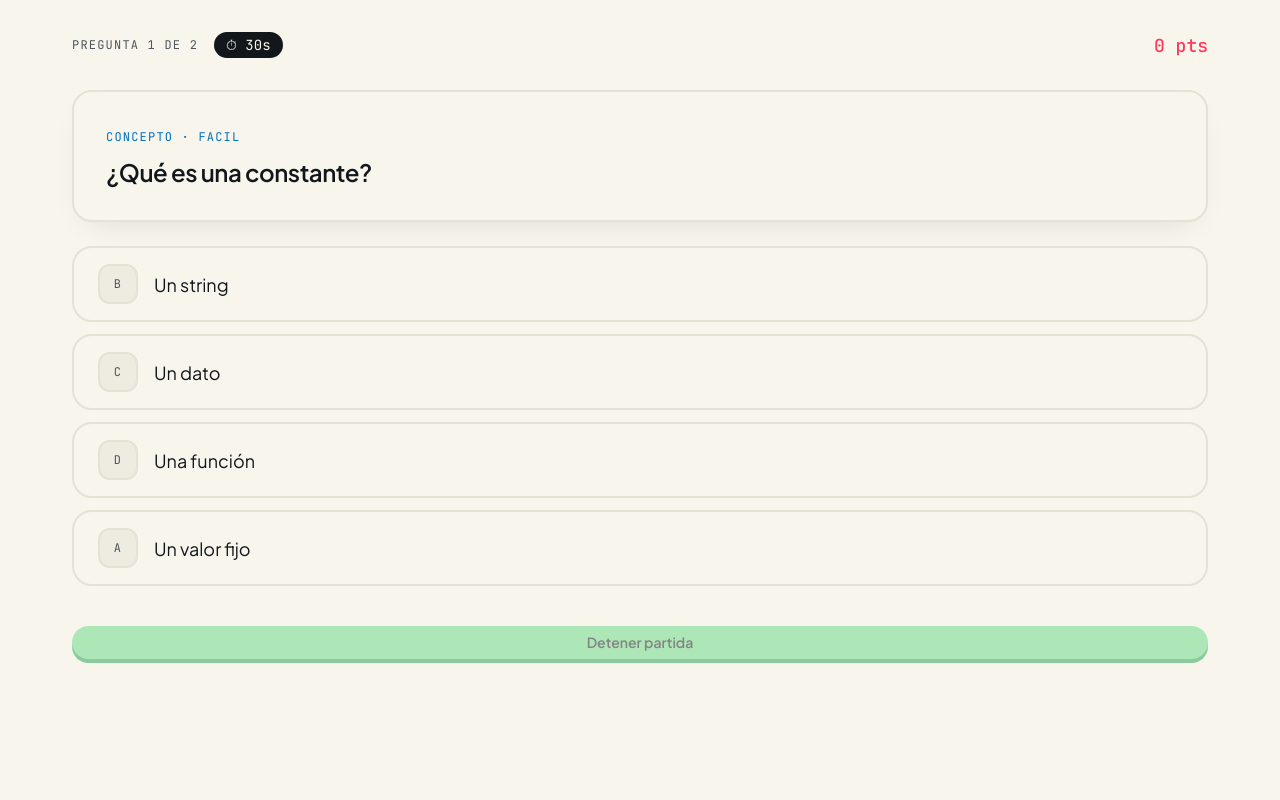
Test case: Quiz - feedback › al acertar muestra feedback y avanza al pulsar siguiente
# Se elige la opcion correcta (A).
Click the button "A Un valor fijo".
click(118, 548)  # box [72,510,1208,586]
(page scrolled)
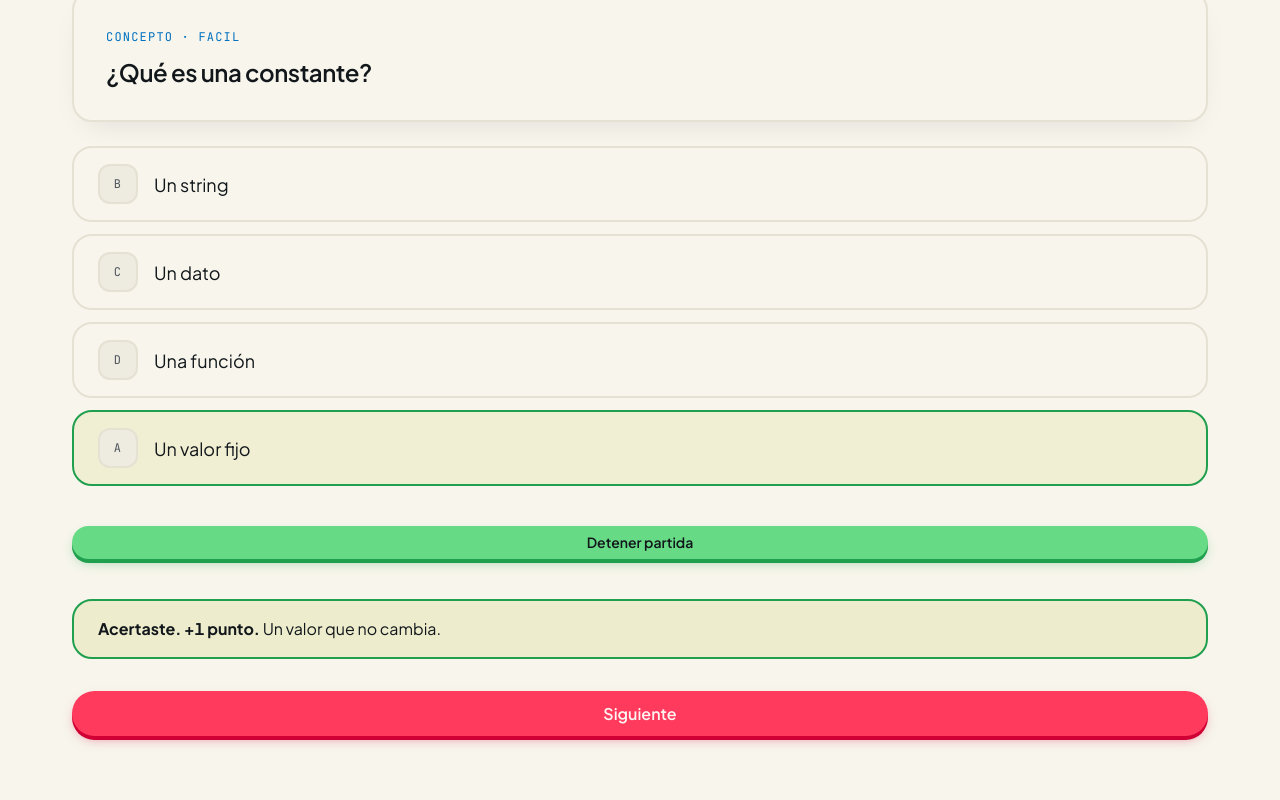
Expected: the text "Acertaste. +1 punto." is shown, [98,618,260,639]
# Siguiente lleva a la segunda pregunta del dataset.
Click the button "Siguiente".
click(640, 713)  # box [72,691,1208,736]
(page scrolled)
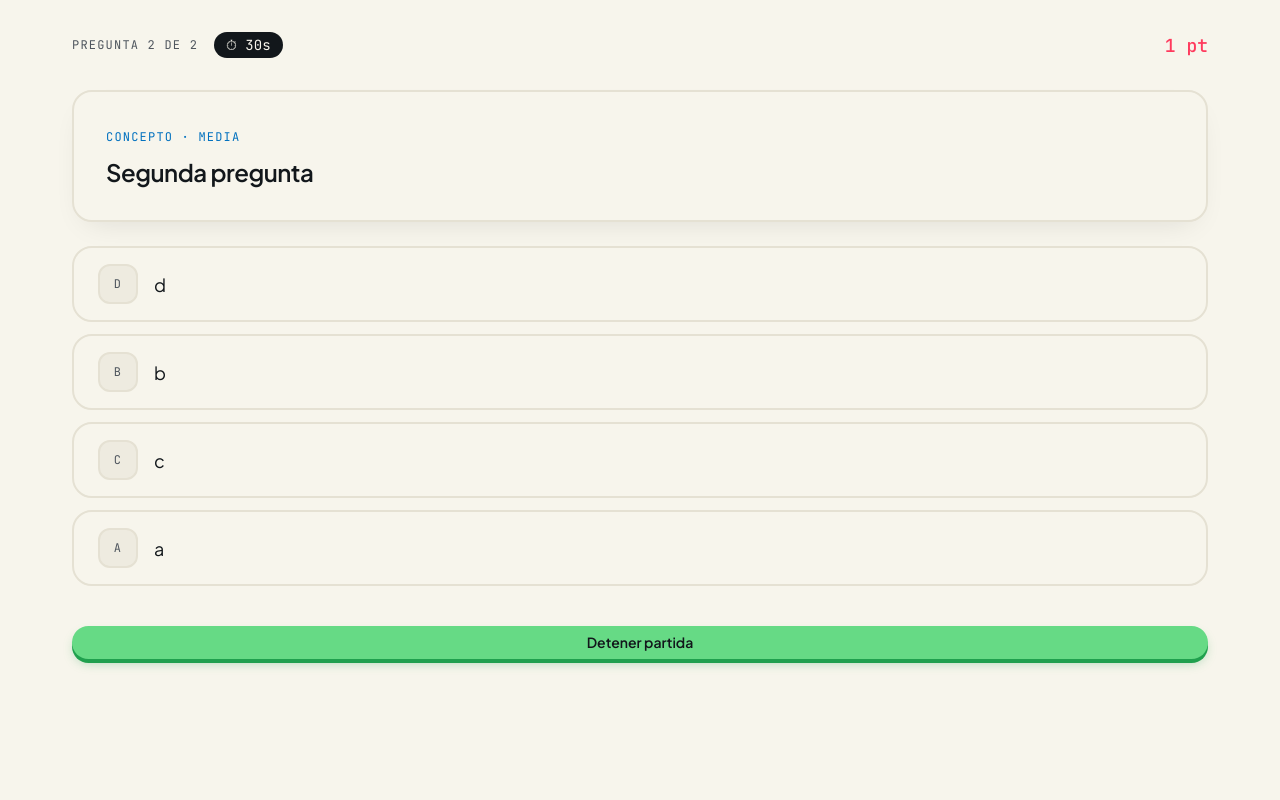
Expected: the heading "Segunda pregunta" is shown, [106,157,313,187]
